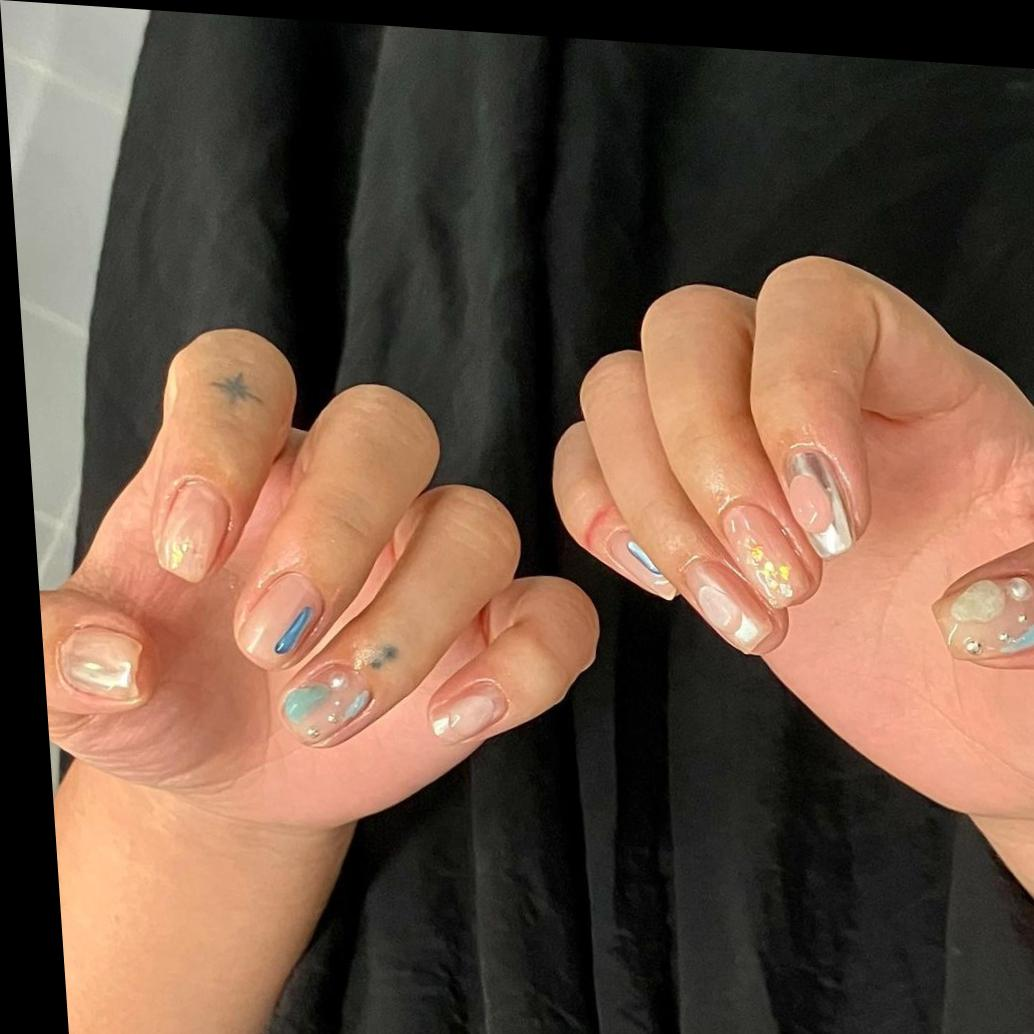nail: (717, 500, 815, 613), (231, 568, 330, 676), (150, 472, 235, 587), (681, 555, 776, 657), (937, 567, 1034, 666), (276, 658, 377, 753), (780, 445, 855, 563), (52, 623, 148, 707), (424, 674, 512, 751), (624, 537, 669, 588)
